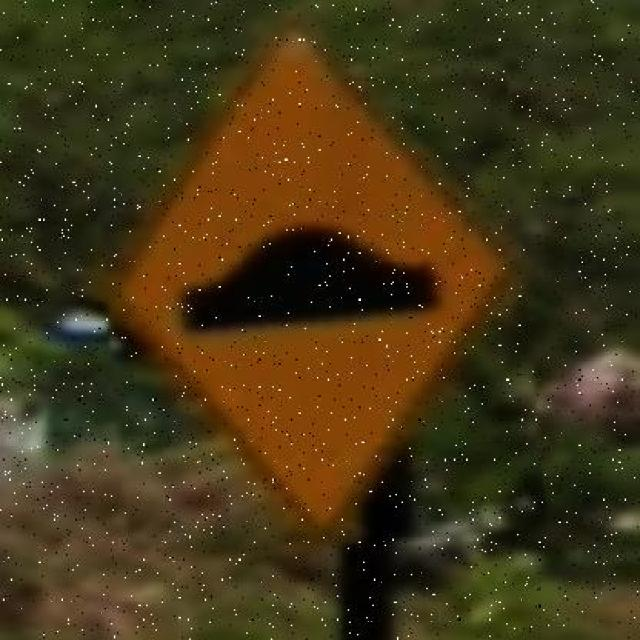Polisi Tidur: (92, 0, 536, 554)
